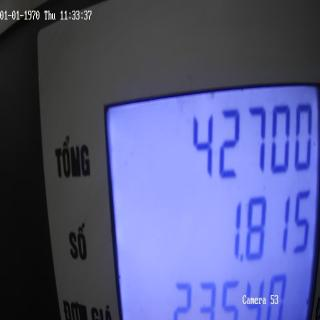screen: (97, 62, 317, 320)
